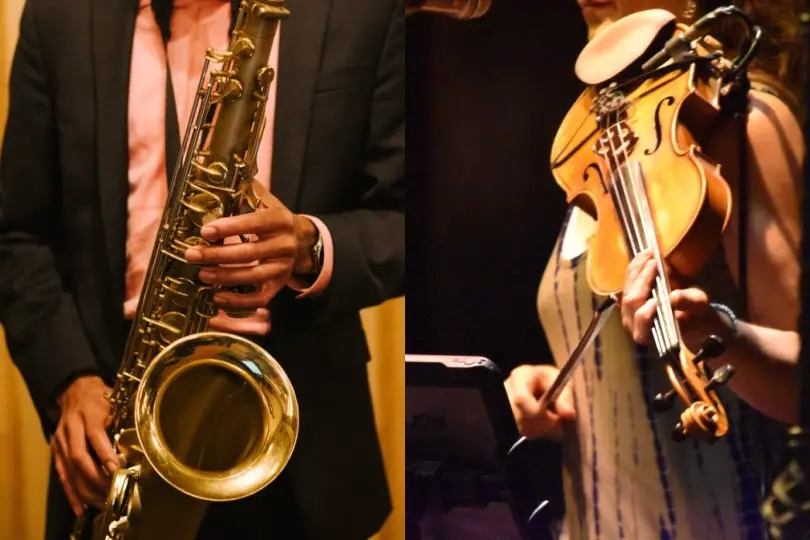Saxophone: (47, 1, 333, 529)
Violin: (451, 22, 760, 507)
